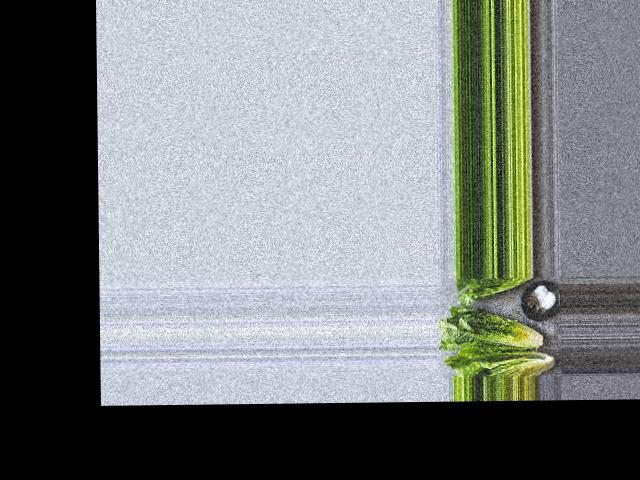lettuce: (452, 347, 561, 376)
